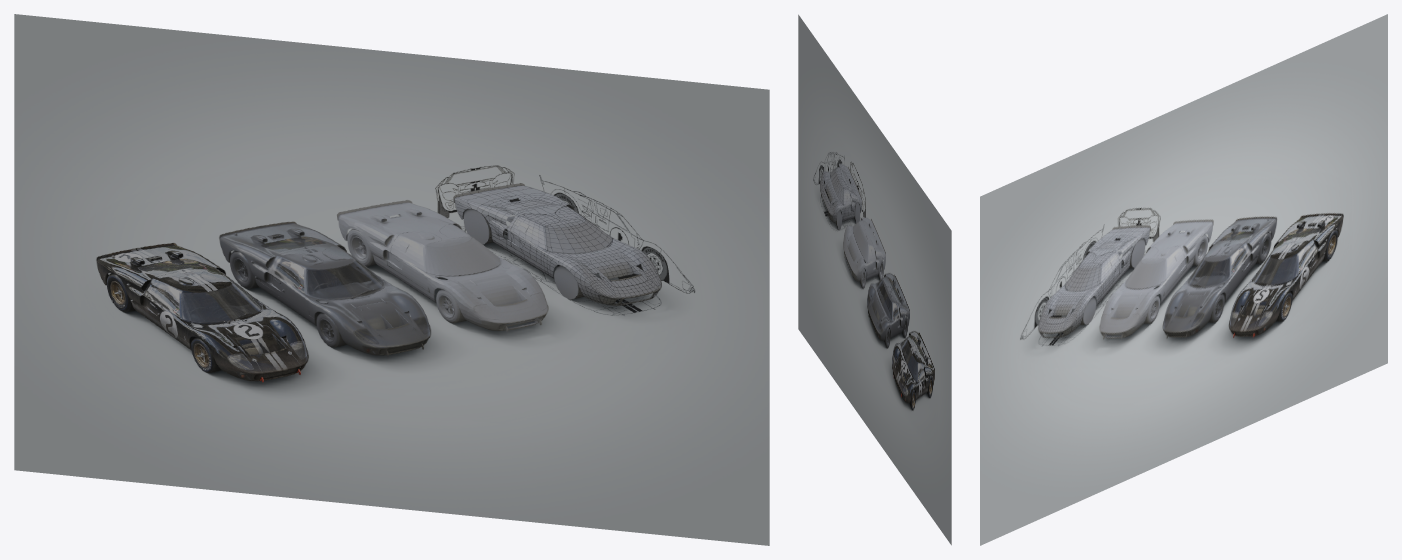
Rendered from nft7.glb.
3 renders of one model, left to right at view 1: azimuth 30°, elevation 25°; view 2: azimuth 150°, elevation 25°; view 3: azimuth 270°, elevation 25°, orthographic. The views are drawn at different scales.
Visible parts, largest first — view 1: nft7.001; view 2: nft7.001; view 3: nft7.001.
Part boxes in pixels (x1,y1,x2,y2): nft7.001: [14, 14, 769, 545]; nft7.001: [798, 14, 951, 545]; nft7.001: [980, 14, 1387, 545].
Bounding box in the file's own units: 3.27 × 2.92 × 3.09.
Materials: 1 (1 with a texture image).
